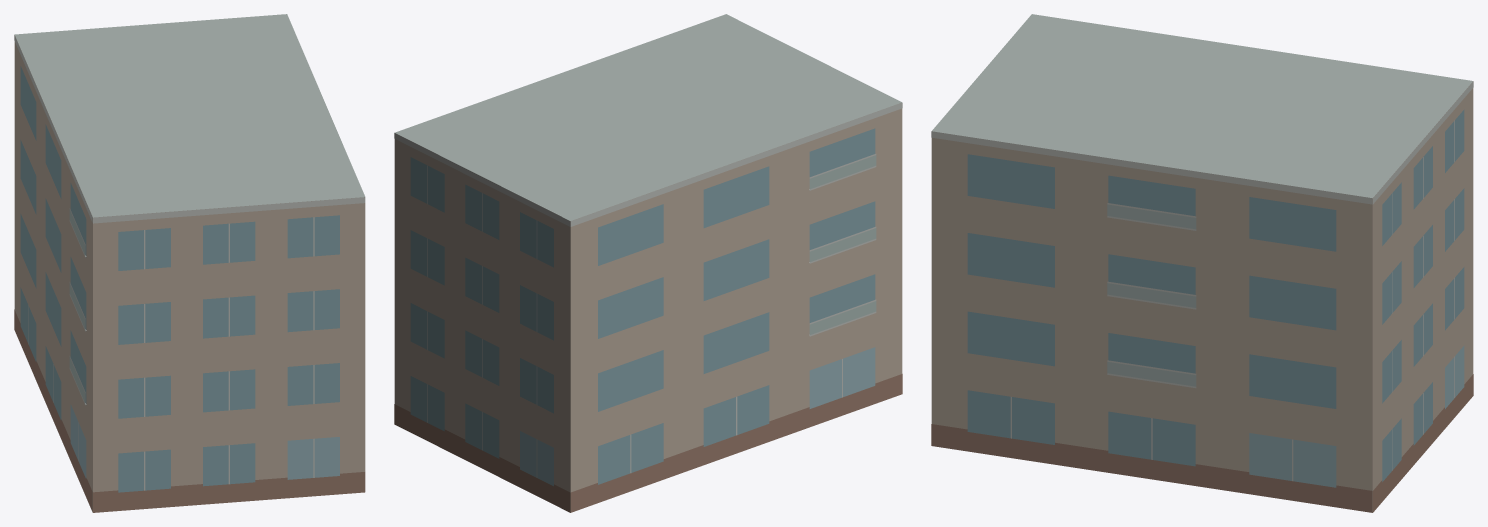
File: survey-upis-32884093.glb
3 views of the same model, side by side, from view 1: azimuth 30°, elevation 25°; view 2: azimuth 150°, elevation 25°; view 3: azimuth 270°, elevation 25° (orthographic). The views are drawn at different scales.
Visible parts, largest first — view 1: survey-upis-32884093.tmp; view 2: survey-upis-32884093.tmp; view 3: survey-upis-32884093.tmp.
Part boxes in pixels (x1,y1,x2,y2): survey-upis-32884093.tmp: (14, 14, 365, 512); survey-upis-32884093.tmp: (394, 14, 902, 512); survey-upis-32884093.tmp: (931, 14, 1473, 512).
Bounding box in the file's own units: 15.07 × 12 × 18.74.
